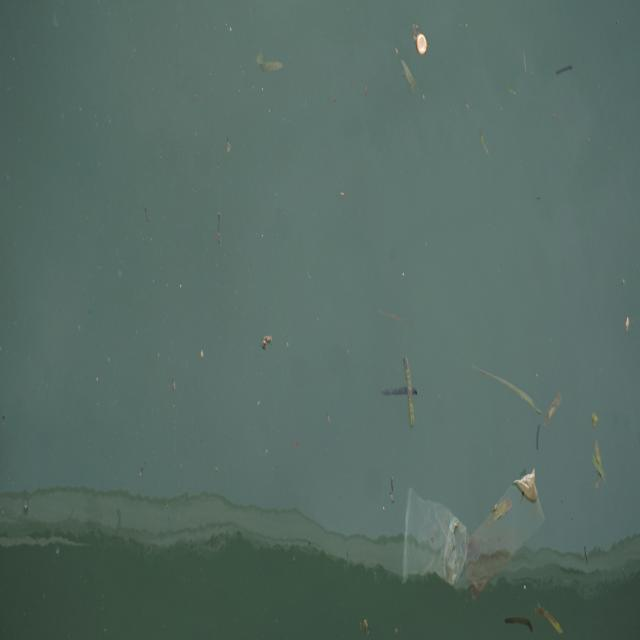Kantong Plastik: (467, 470, 547, 604), (400, 486, 471, 596)
